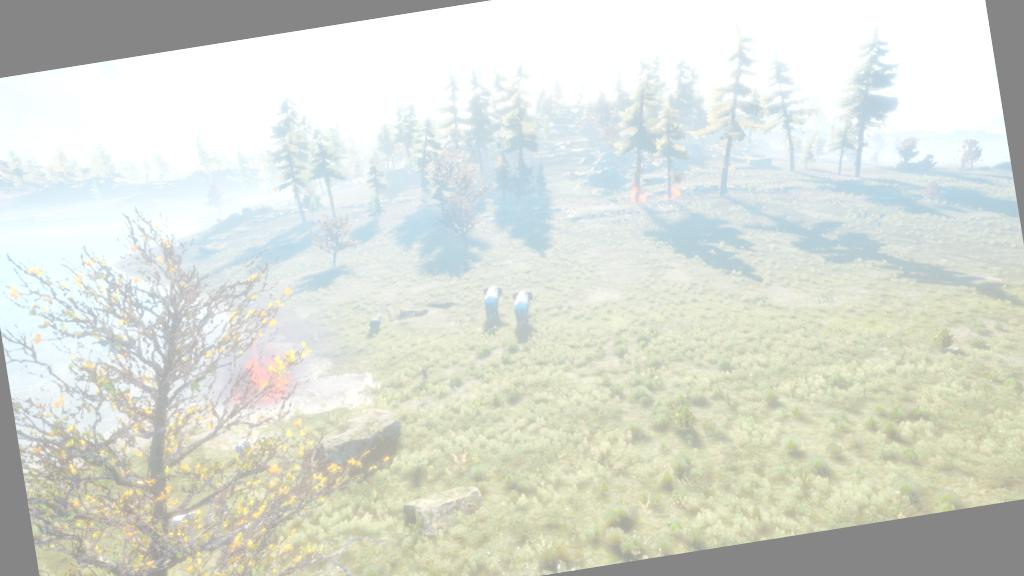elephant: (508, 278, 556, 344), (470, 272, 514, 336)
hippopotamus: (350, 292, 398, 344)
human: (406, 356, 444, 398)
